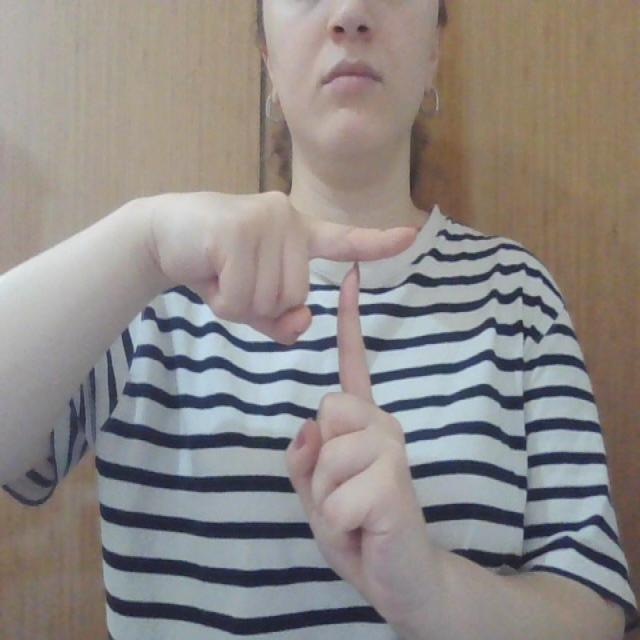Tesekkurler: (292, 192, 422, 439)
